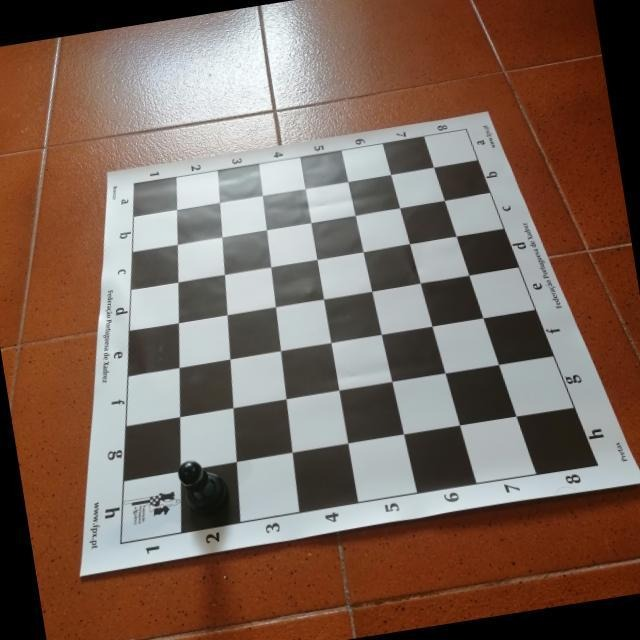black-bishop: (176, 453, 232, 520)
